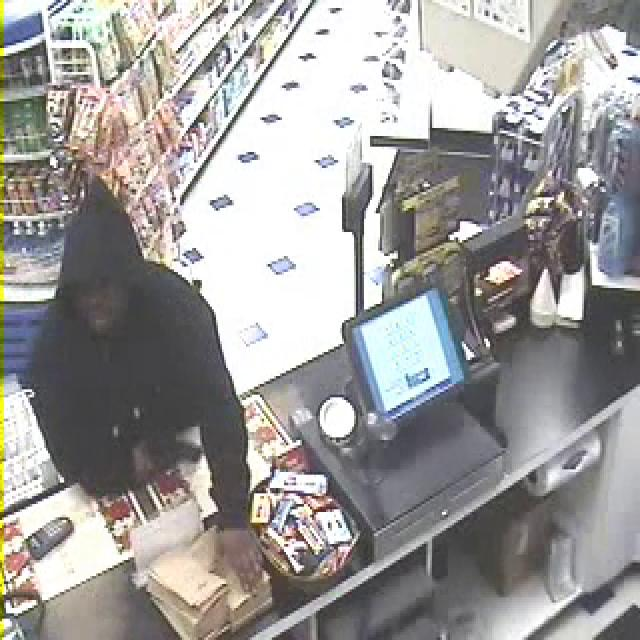robbery: (0, 183, 313, 640)
